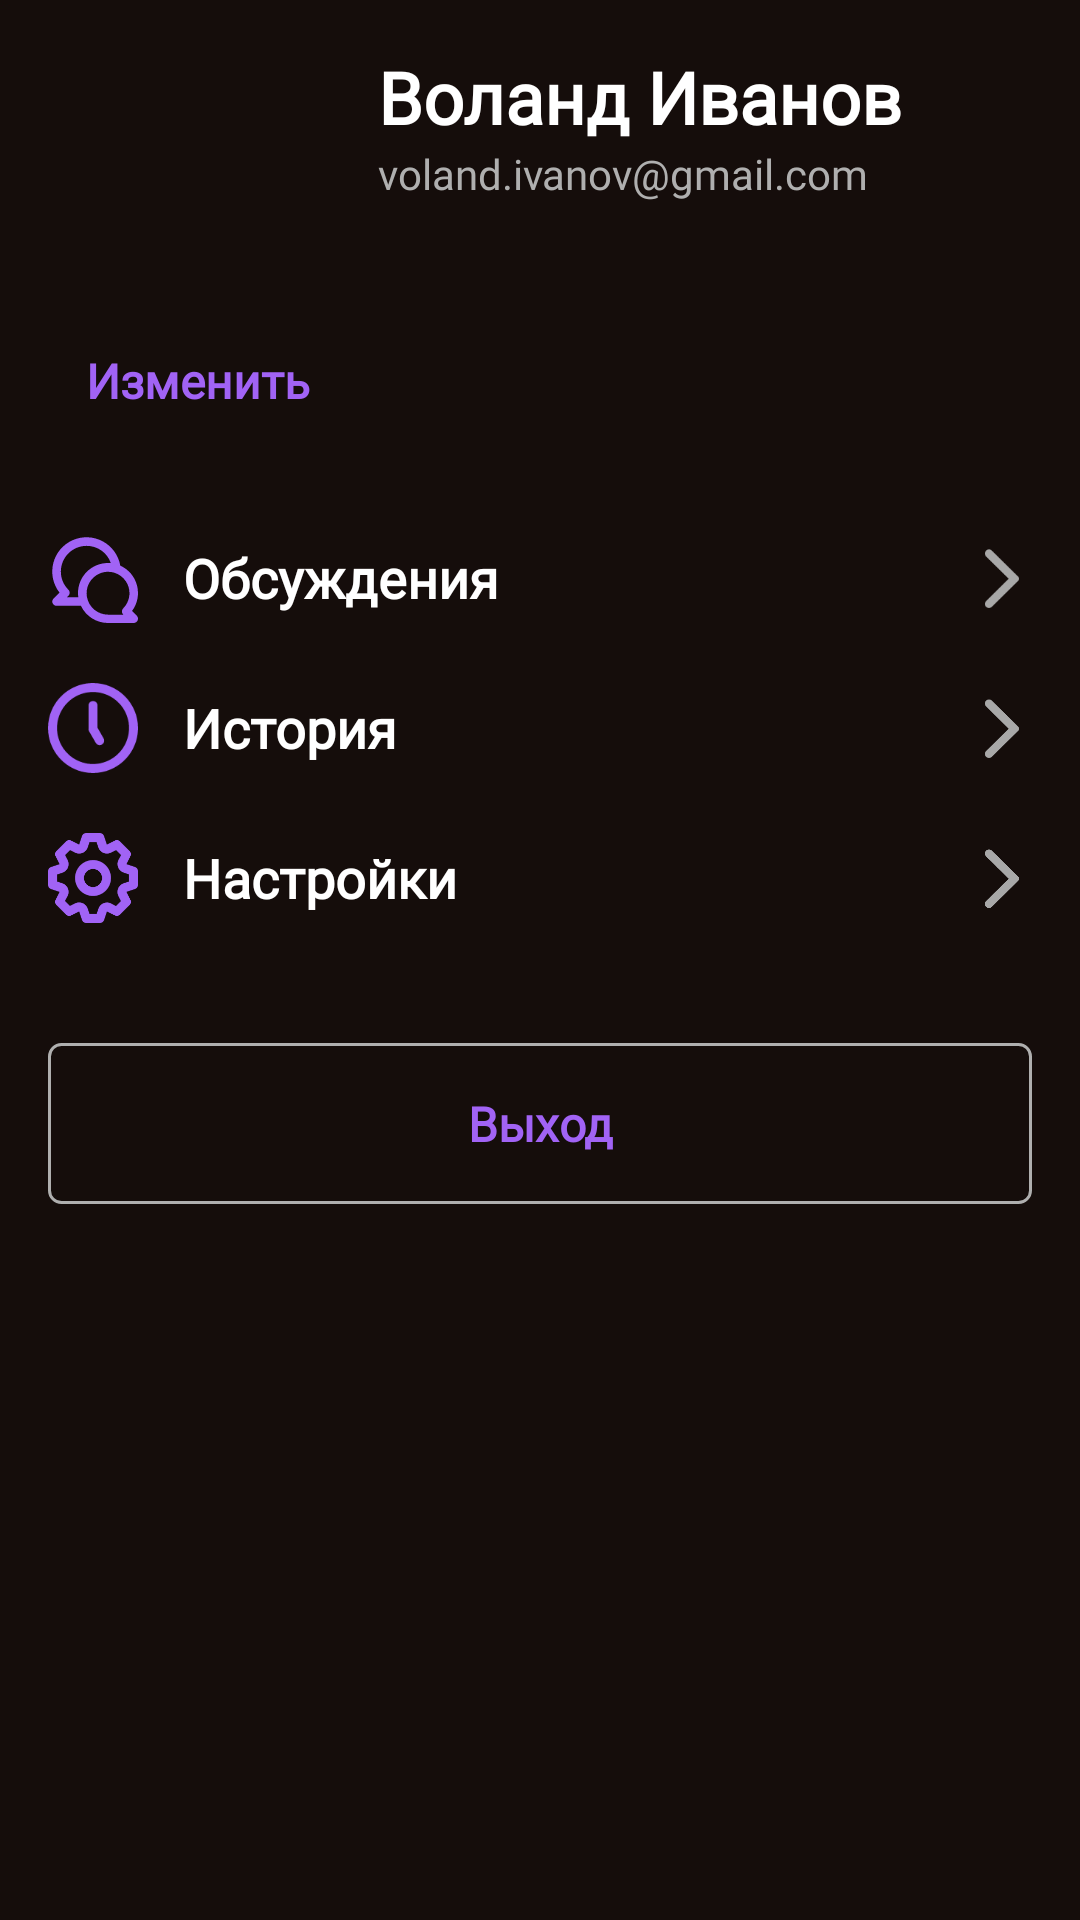

Icons on this 1080px×1920px Android screen, each with its box as [x1,y1,x2,y2]:
arrow next: [985,549,1019,608], [985,699,1019,758], [985,849,1019,908]
history: [48,683,138,773]
masage: [52,537,138,623]
srttings: [48,833,138,923]
